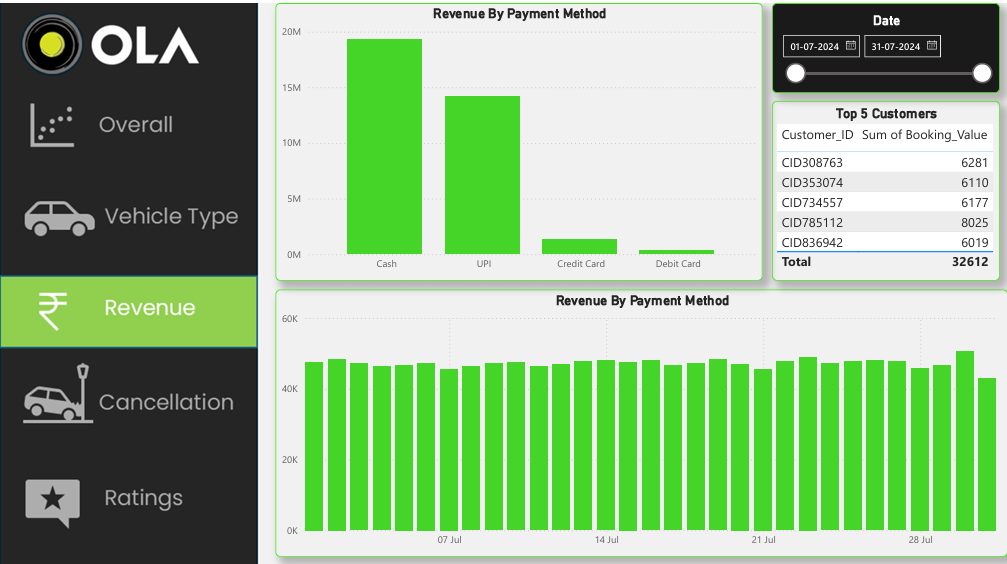

This screenshot's page, from the dashboard's own definition file:
{"tool":"powerbi","page":{"name":"Revenue","canvas":[1280,720],"ordinal":2},"visuals":[{"type":"actionButton","box":[0,112.2,323.3,91.7],"z":0},{"type":"actionButton","box":[0,222,323.3,91.7],"z":1000},{"type":"actionButton","box":[0,447.6,323.3,91.7],"z":2000},{"type":"actionButton","box":[0,570.6,323.3,91.7],"z":3000},{"type":"columnChart","title":"Revenue By Payment Method","fields":{"Y":["Sum(OLA_Bookings.Booking_Value)"],"Category":["OLA_Bookings.Payment_Method"]},"box":[346.2,0,611.2,348.8],"z":4000},{"type":"columnChart","title":"Revenue By Payment Method","fields":{"Y":["Sum(OLA_Bookings.Ride_Distance)"],"Category":["OLA_Bookings.Date"]},"box":[346.2,360,920,336.2],"z":5000},{"type":"slicer","title":"Date","fields":{"Values":["OLA_Bookings.Date"]},"box":[970,0,286.2,112.5],"z":6000},{"type":"tableEx","title":"Top 5 Customers","fields":{"Values":["OLA_Bookings.Customer_ID","Sum(OLA_Bookings.Booking_Value)"]},"box":[970,122.5,286.2,226.2],"z":7000}]}

Visuals, with their boxes on the page's 1280x720 design canvas (x1, y1, x2, y2). These are canvas units, not pixel positions in the 1007x564 screenshot, which may show the page scaled, cropped or inside an application window:
actionButton: [x1=0, y1=112, x2=323, y2=204]
actionButton: [x1=0, y1=222, x2=323, y2=314]
actionButton: [x1=0, y1=448, x2=323, y2=539]
actionButton: [x1=0, y1=571, x2=323, y2=662]
"Revenue By Payment Method" columnChart: [x1=346, y1=0, x2=957, y2=349]
"Revenue By Payment Method" columnChart: [x1=346, y1=360, x2=1266, y2=696]
"Date" slicer: [x1=970, y1=0, x2=1256, y2=112]
"Top 5 Customers" tableEx: [x1=970, y1=122, x2=1256, y2=349]
